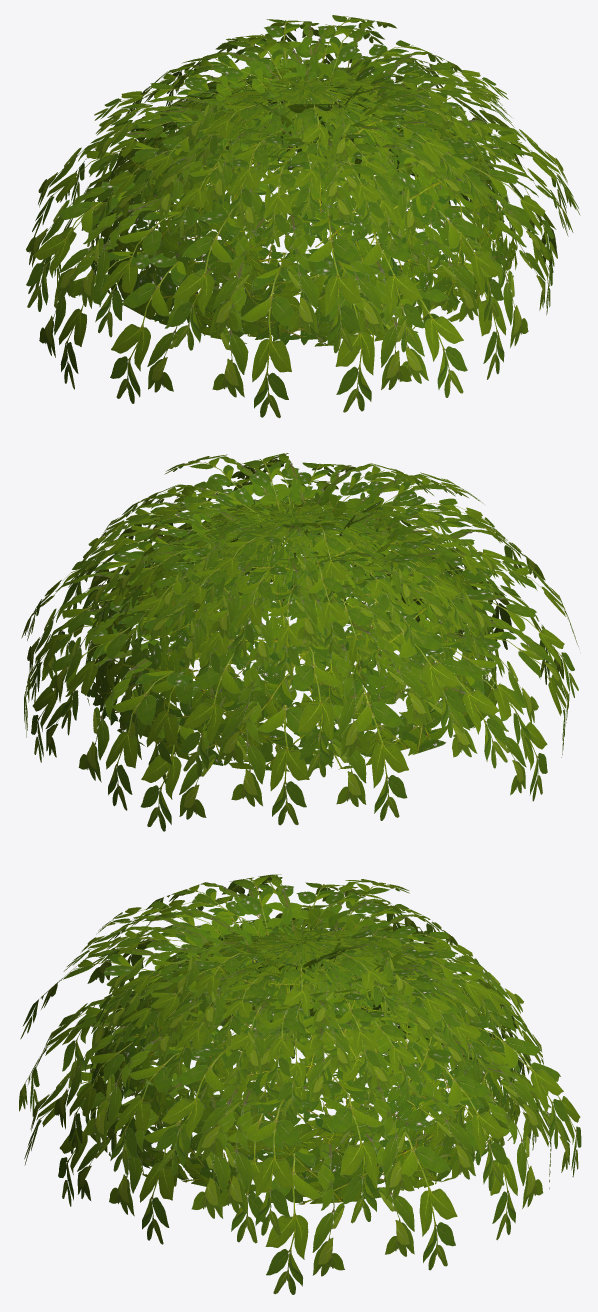
Rendered from NaturePlant03_3.FBX.
3 renders of one model, top to bottom at view 1: azimuth 30°, elevation 25°; view 2: azimuth 150°, elevation 25°; view 3: azimuth 270°, elevation 25°, orthographic. The views are drawn at different scales.
Visible parts, largest first — view 1: NaturePlant03_3; view 2: NaturePlant03_3; view 3: NaturePlant03_3.
Boxes of the visible parts, x1,y1,x2,y2 form: NaturePlant03_3: (26,15,580,418); NaturePlant03_3: (21,453,578,831); NaturePlant03_3: (19,874,581,1294).
Bounding box in the file's own units: 0.7266 × 0.352 × 0.6954.
